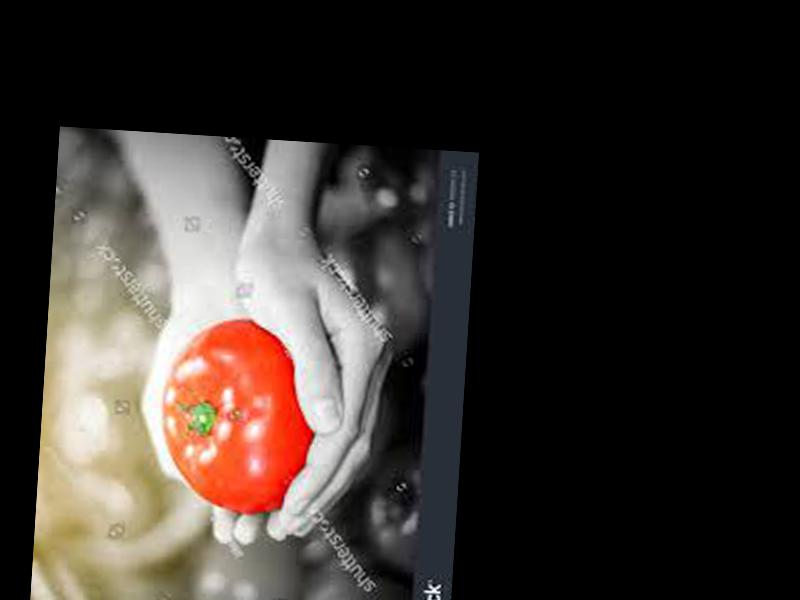Tomato: (156, 314, 319, 516)
